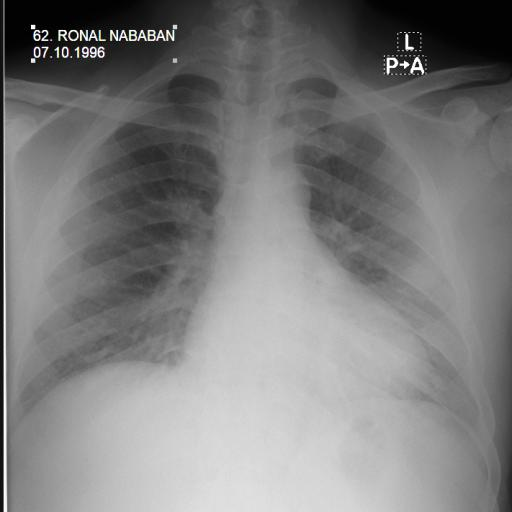kardiomegali: (6, 44, 502, 455)
